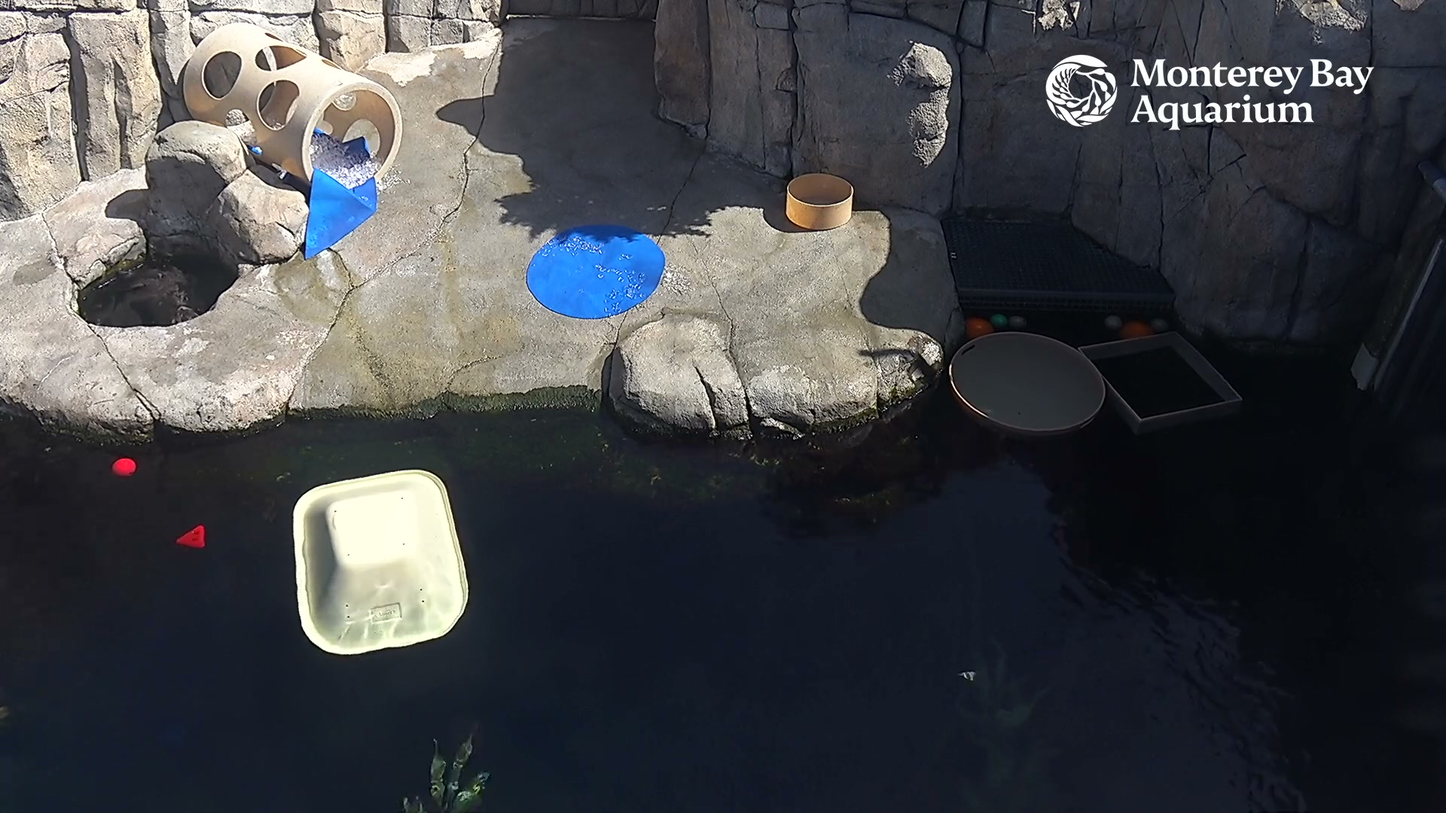Southern Sea Otter: (137, 248, 203, 329)
